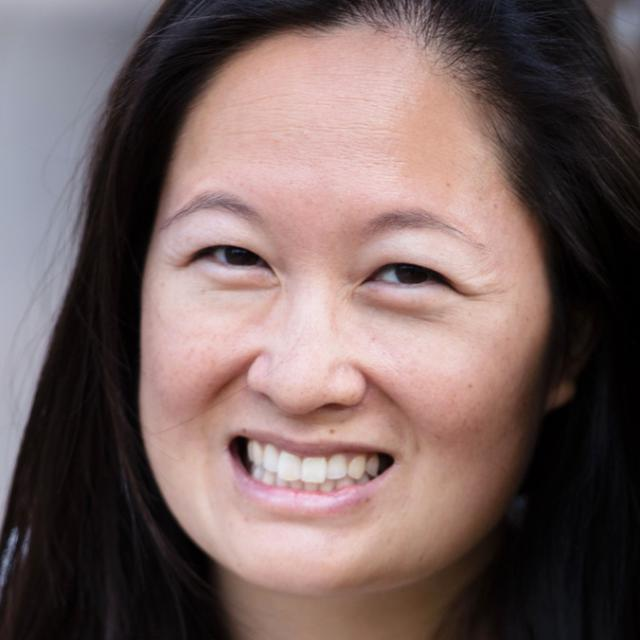Normal: (142, 21, 560, 604)
